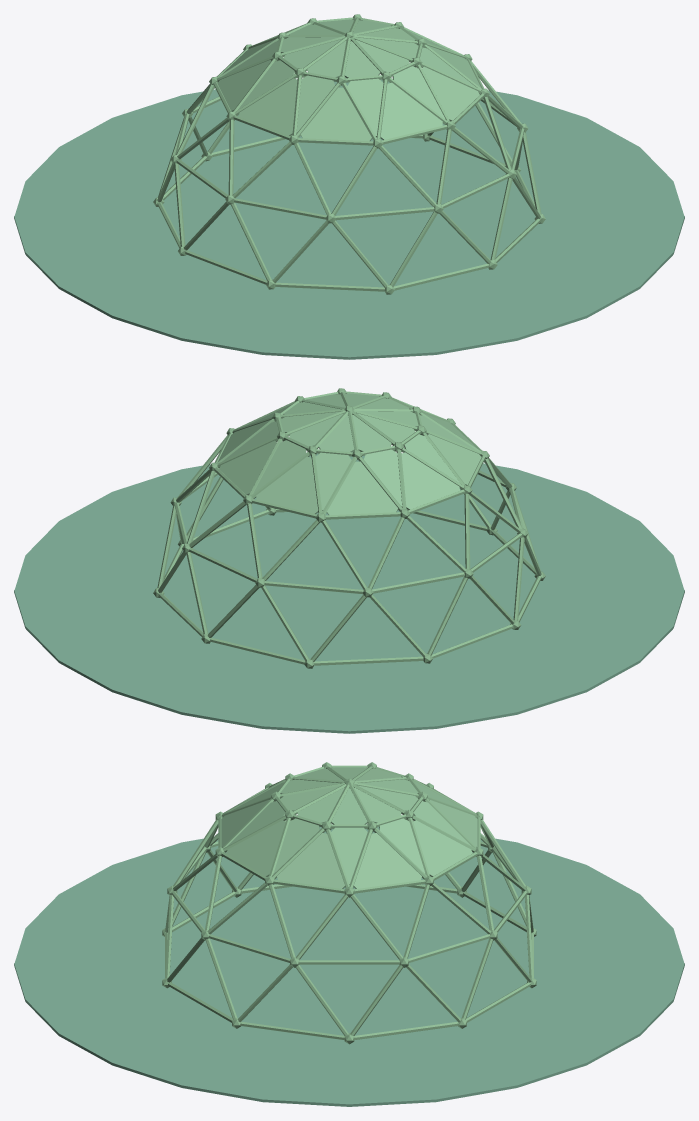
The picture shows the model from 3 angles, top to bottom: view 1: azimuth 30°, elevation 25°; view 2: azimuth 150°, elevation 25°; view 3: azimuth 270°, elevation 25°; orthographic projection.
Parts seen in each view (by area): view 1: Fall_Zone_Pad, Dome_Frame, Canopy_Panels; view 2: Fall_Zone_Pad, Dome_Frame, Canopy_Panels; view 3: Fall_Zone_Pad, Dome_Frame, Canopy_Panels.
Boxes of the visible parts, x1,y1,x2,y2 form: Fall_Zone_Pad: (14,77,684,359); Dome_Frame: (153,14,545,294); Canopy_Panels: (217,19,481,141); Fall_Zone_Pad: (14,451,684,733); Dome_Frame: (153,388,545,668); Canopy_Panels: (217,393,481,515); Fall_Zone_Pad: (14,824,684,1106); Dome_Frame: (162,762,536,1044); Canopy_Panels: (221,767,477,888).
Size of what is drawn, in the model's own units: 7 by 2.14 by 7.
